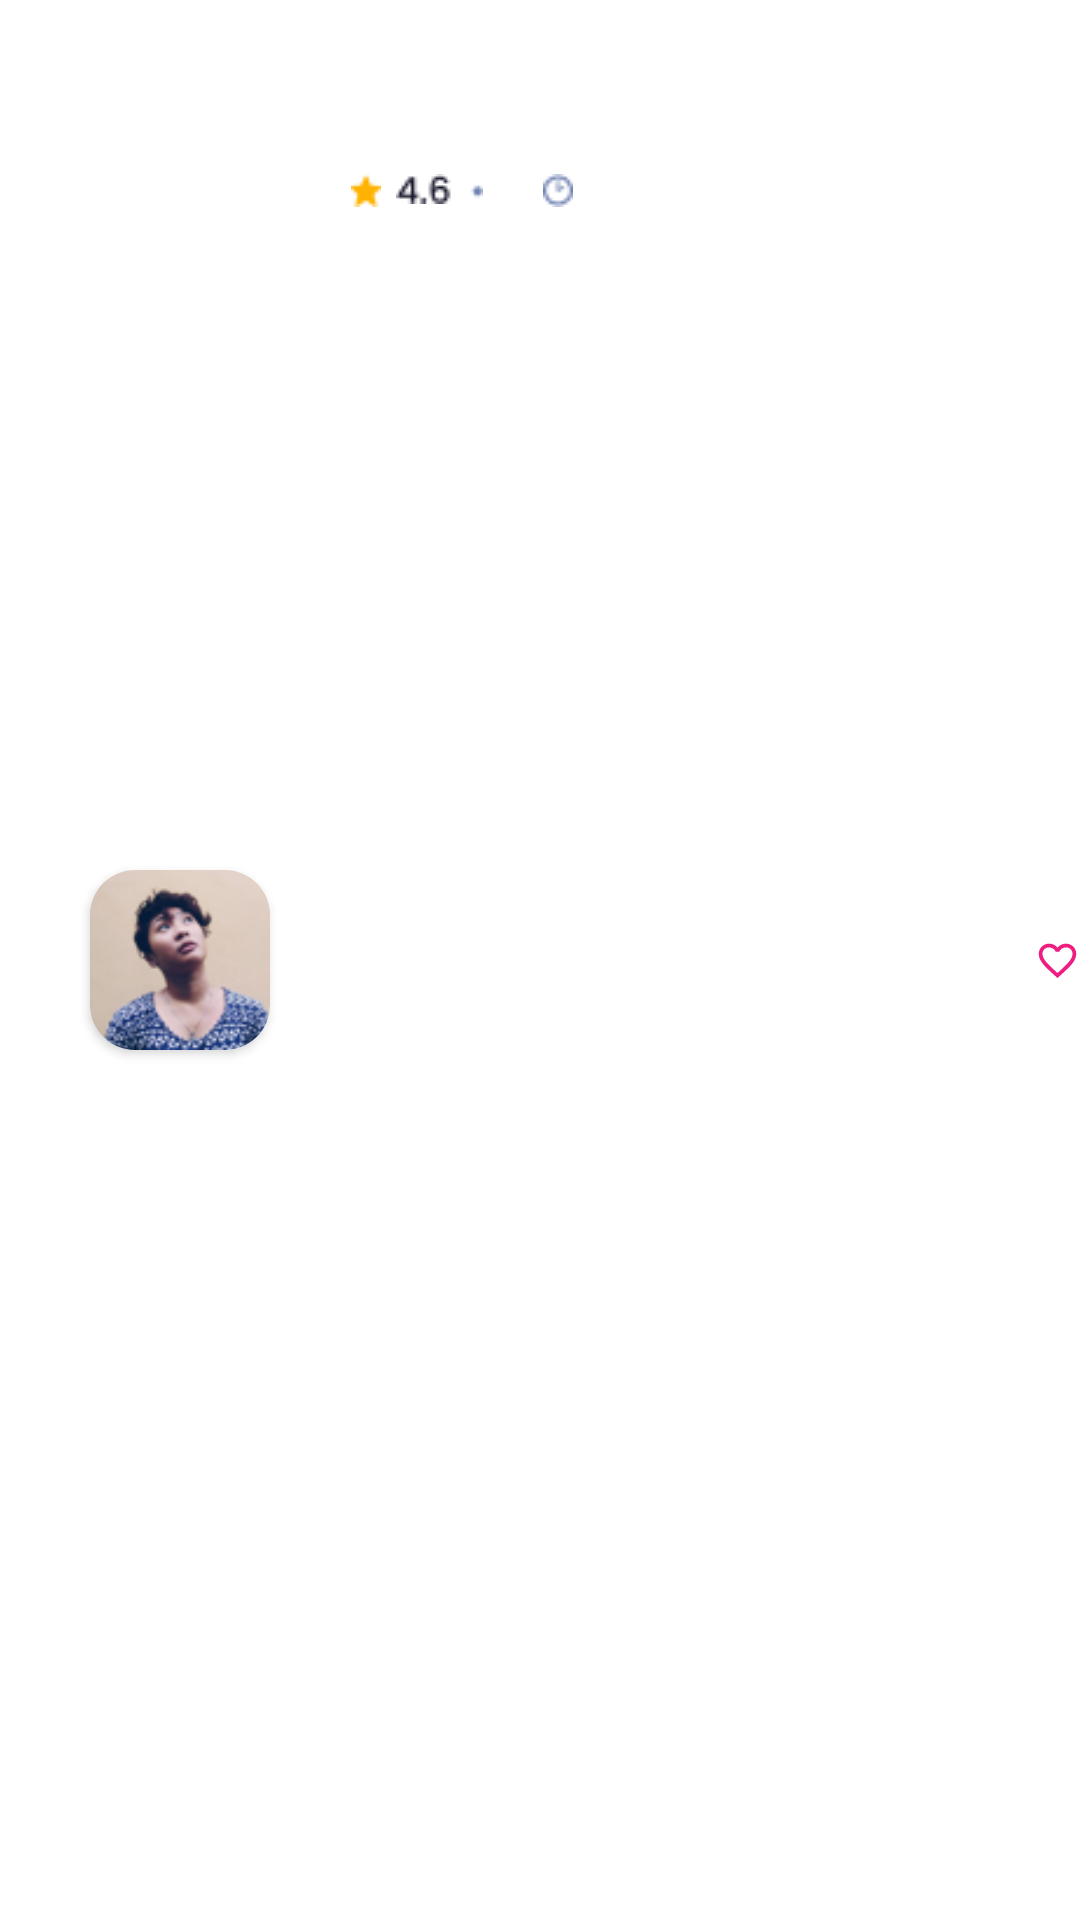

Named icons in this screenshot (1080px×1920px) and their centers, (x,y):
clock: (558,190)
favorite: (1057,960)
star: (366,190)
